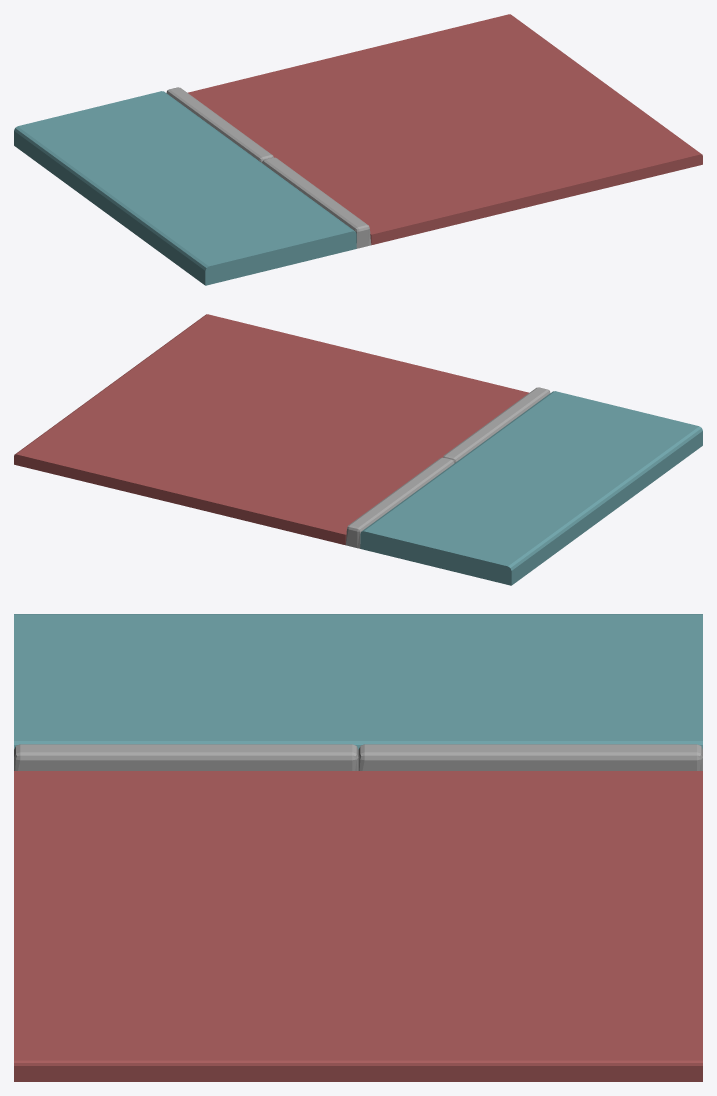
The model's file is obj_street_2x3.fbx.
The picture shows the model from 3 angles, top to bottom: view 1: azimuth 30°, elevation 25°; view 2: azimuth 150°, elevation 25°; view 3: azimuth 270°, elevation 25°; orthographic projection. The views are drawn at different scales.
Visible parts, largest first — view 1: obj_street_2x3; view 2: obj_street_2x3; view 3: obj_street_2x3.
Part boxes in pixels (box(x1,y1,x2,y2)): obj_street_2x3: box(14, 14, 702, 285); obj_street_2x3: box(14, 314, 702, 585); obj_street_2x3: box(14, 614, 702, 1081).
Size of the model in its own units: 168 by 6.44 by 112.
